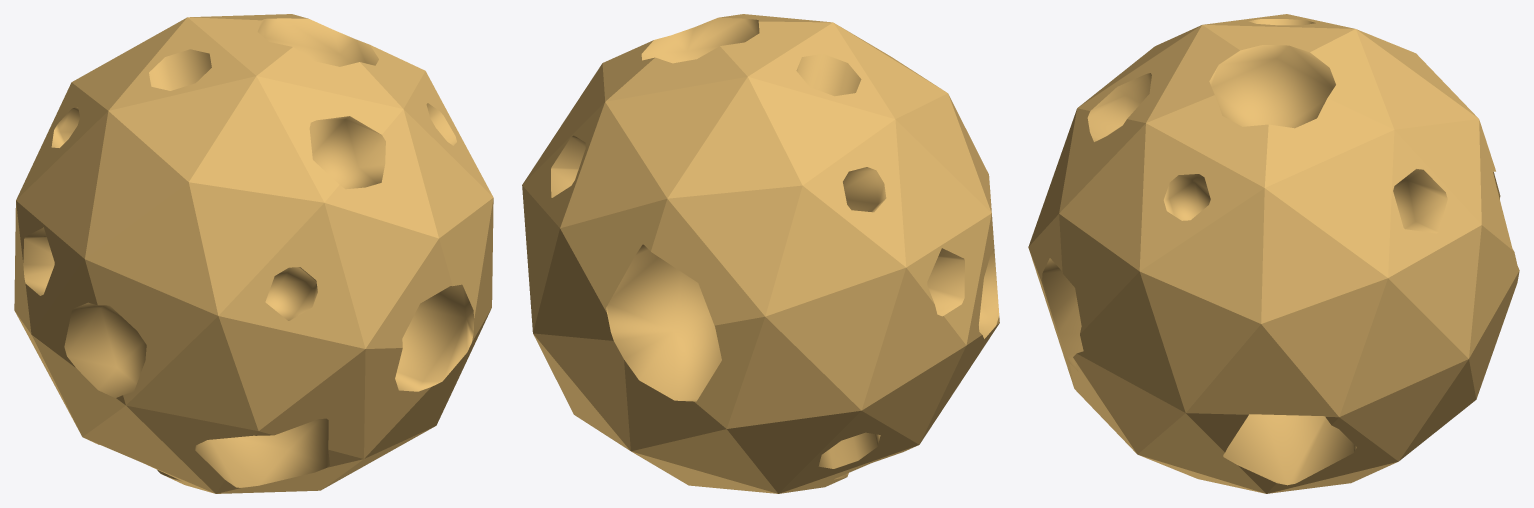
The model's file is cheesePlanet001.fbx.
3 views of the same model, side by side, from view 1: azimuth 30°, elevation 25°; view 2: azimuth 150°, elevation 25°; view 3: azimuth 270°, elevation 25° (orthographic).
Parts seen in each view (by area): view 1: planet; view 2: planet; view 3: planet.
Boxes of the visible parts, x1,y1,x2,y2 form: planet: [14, 14, 493, 493]; planet: [522, 14, 999, 493]; planet: [1028, 14, 1519, 493].
Bounding box in the file's own units: 197 × 190 × 197.
